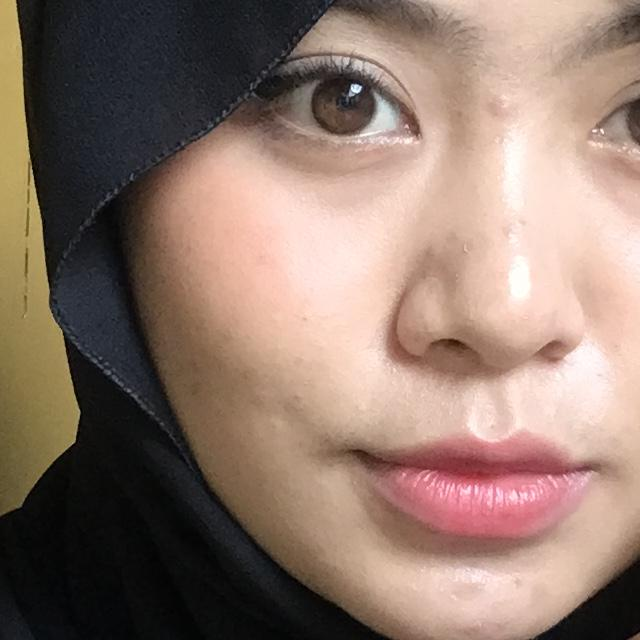telpon: (460, 96, 640, 640)
